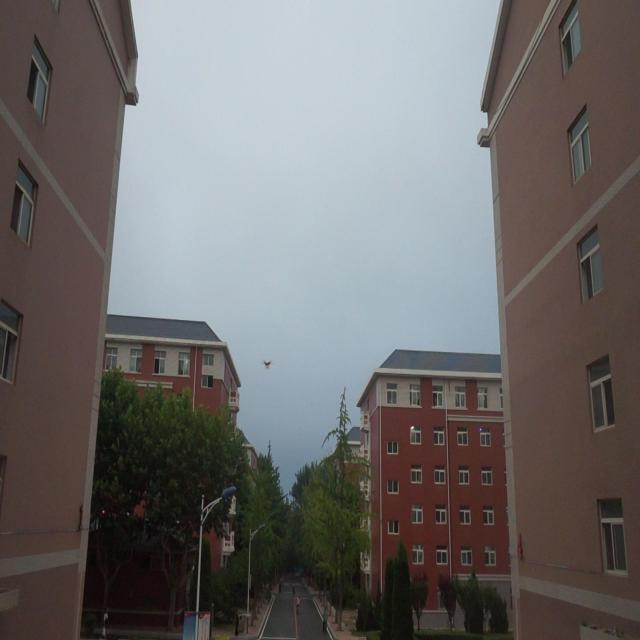drone: (260, 356, 275, 371)
